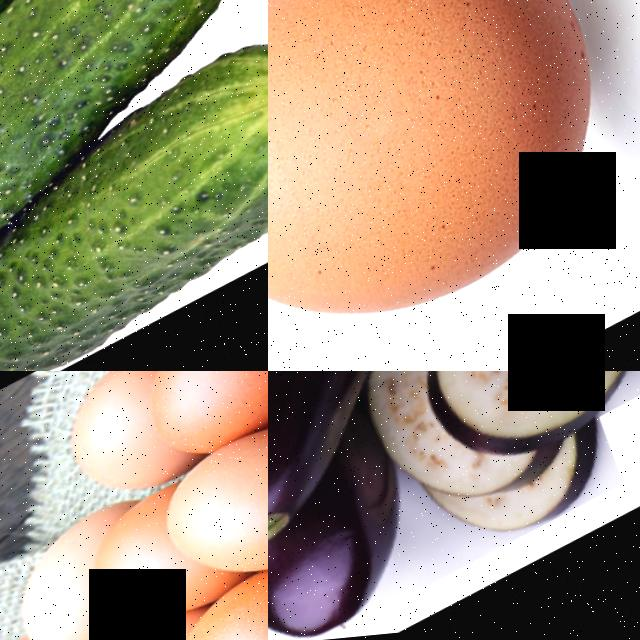cucumber: (23, 15, 268, 346), (0, 0, 268, 158)
egg_: (268, 0, 640, 371), (152, 387, 268, 615), (74, 483, 220, 640), (41, 371, 184, 514), (114, 371, 268, 480), (0, 519, 130, 640), (165, 568, 268, 640)
eggplant: (268, 371, 632, 584)
